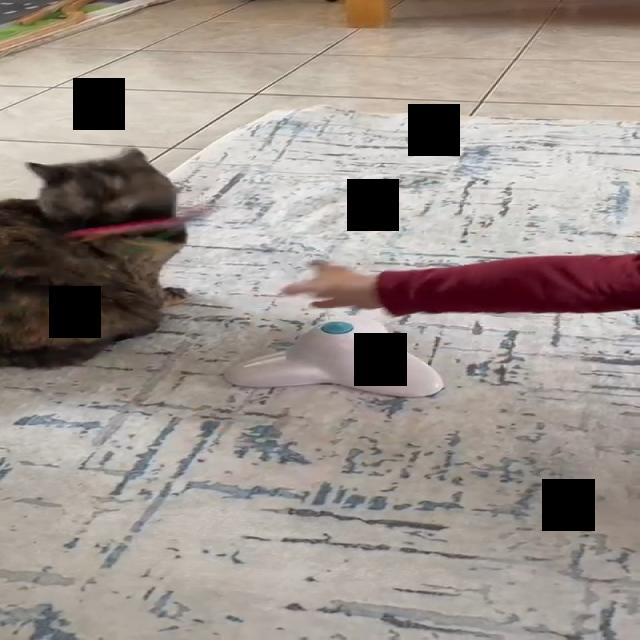authorized: (0, 146, 192, 369)
